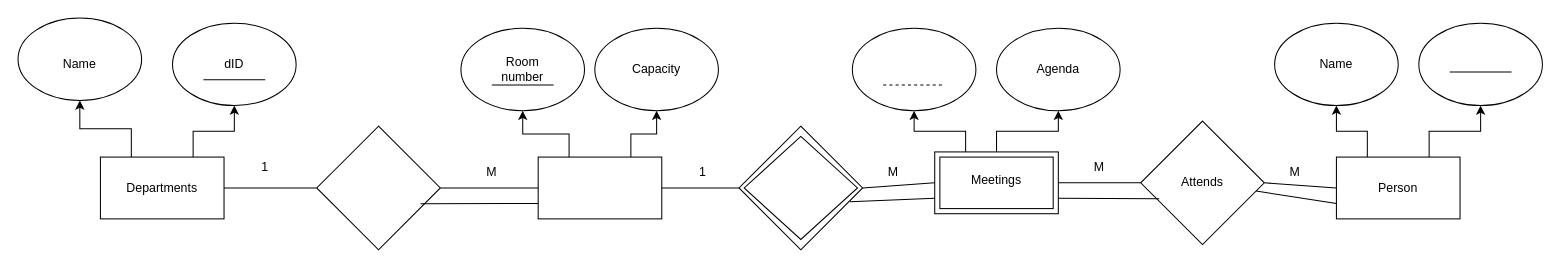
This 1560x268 diagram has some shape labels left out. The box of each missing label's shape, as (x1, y1, x2, y2) in pixels:
Managed By: (316, 125, 440, 250)
Rooms: (537, 156, 662, 219)
SSN: (1418, 22, 1542, 106)
Starting Time: (851, 27, 976, 111)
Takes place in: (743, 135, 857, 239)
